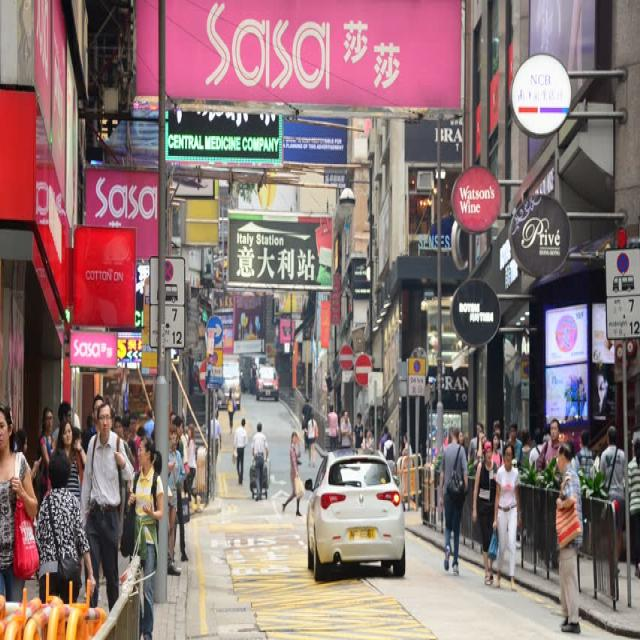body: (80, 400, 134, 616), (33, 449, 96, 607), (123, 433, 165, 640), (0, 397, 40, 607), (554, 442, 584, 638), (54, 417, 84, 591), (487, 441, 521, 592), (437, 424, 468, 577), (548, 361, 626, 420), (599, 424, 627, 581), (471, 437, 498, 588), (109, 387, 158, 469), (402, 178, 462, 238), (469, 429, 493, 559), (108, 412, 128, 560), (171, 415, 190, 564), (422, 433, 449, 535), (577, 428, 598, 557), (167, 423, 185, 572), (37, 407, 58, 512), (281, 428, 306, 516), (626, 429, 640, 579), (518, 426, 533, 546), (536, 417, 564, 475), (250, 420, 269, 503), (16, 427, 43, 484), (82, 392, 105, 456), (230, 418, 248, 486), (401, 431, 415, 512), (184, 423, 198, 504), (71, 426, 87, 490), (205, 409, 223, 463), (504, 421, 524, 467), (303, 411, 319, 468), (466, 421, 484, 467), (301, 395, 315, 453), (528, 425, 545, 472), (501, 426, 550, 442), (491, 418, 506, 466), (296, 373, 308, 432), (326, 403, 339, 453), (564, 435, 579, 476), (490, 432, 506, 468), (339, 407, 352, 449), (180, 423, 190, 477), (353, 411, 364, 456), (456, 428, 470, 463), (360, 425, 376, 455), (340, 410, 352, 450), (143, 409, 155, 448), (226, 386, 235, 434), (56, 401, 72, 428), (249, 356, 259, 399), (382, 432, 396, 461), (367, 428, 376, 467), (379, 425, 390, 456), (84, 414, 95, 438), (212, 387, 222, 409)
